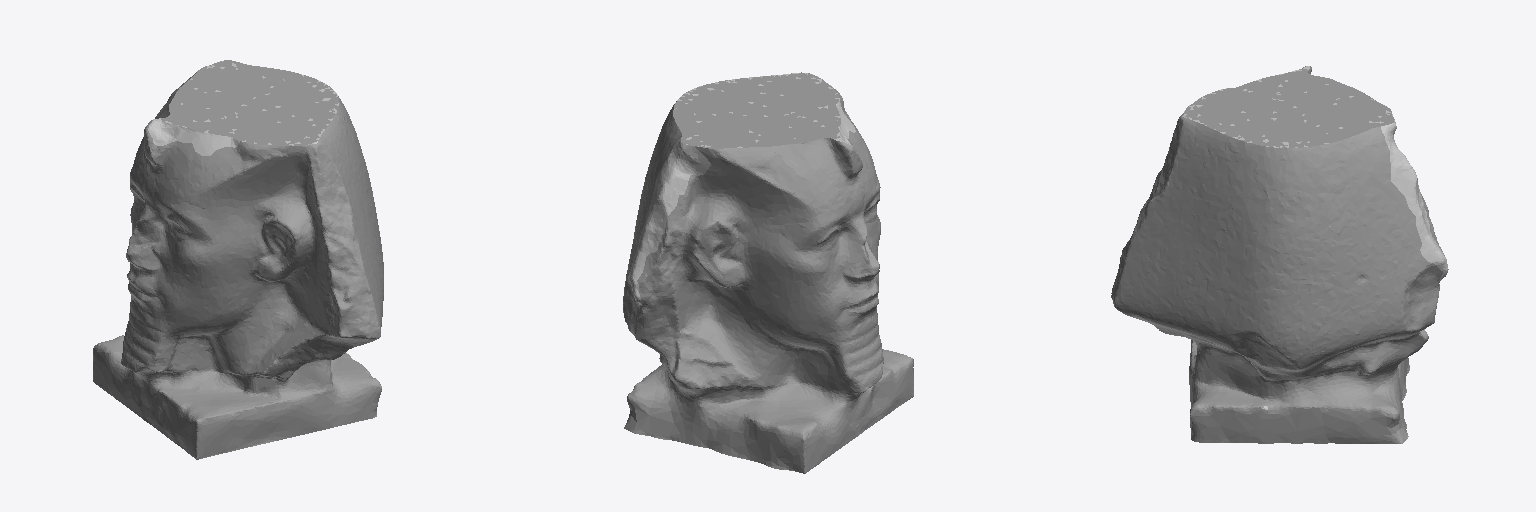
The model's file is sphinx.obj.
The picture shows the model from 3 angles: view 1: azimuth 30°, elevation 25°; view 2: azimuth 150°, elevation 25°; view 3: azimuth 270°, elevation 25°; orthographic projection.
Visible parts, largest first — view 1: sculpt; view 2: sculpt; view 3: sculpt.
Boxes of the visible parts, box(x1,y1,x2,y2) form: sculpt: box(93, 60, 383, 459); sculpt: box(623, 72, 913, 473); sculpt: box(1111, 66, 1448, 443).
Bounding box in the file's own units: 18.55 × 21.8 × 22.6.